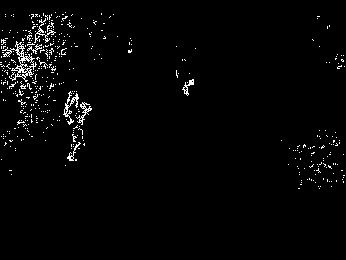person: (62, 91, 92, 163)
